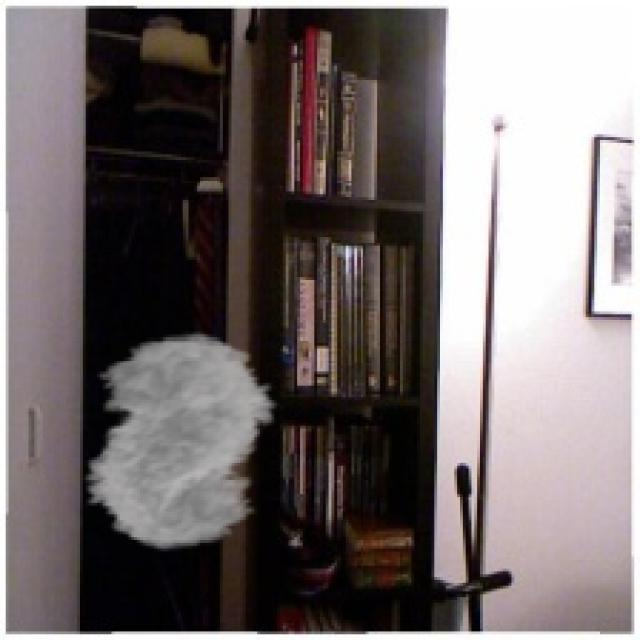Smoke: (59, 332, 294, 552)
